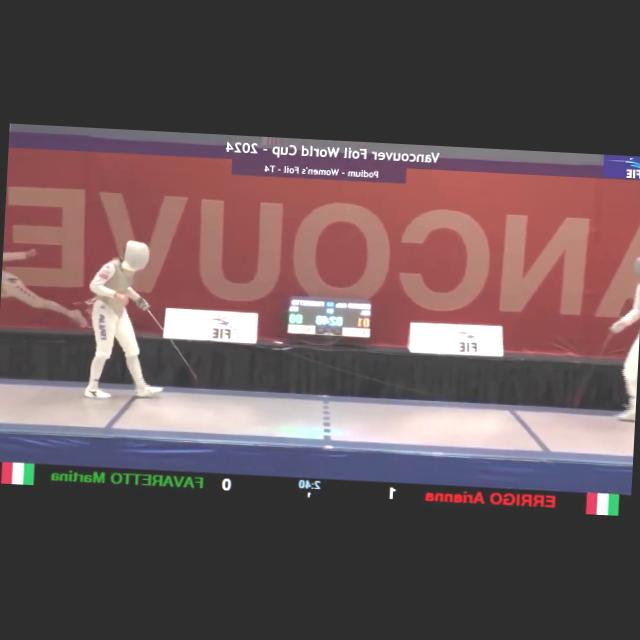blade: (138, 302, 203, 382), (570, 322, 618, 416)
